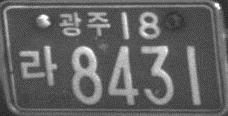1: (184, 43, 204, 106), (118, 9, 131, 40)
3: (138, 44, 175, 108)
4: (106, 43, 139, 105)
8: (69, 43, 103, 106), (138, 10, 160, 40)
광주_O: (57, 10, 112, 38)
라: (17, 45, 58, 89)
